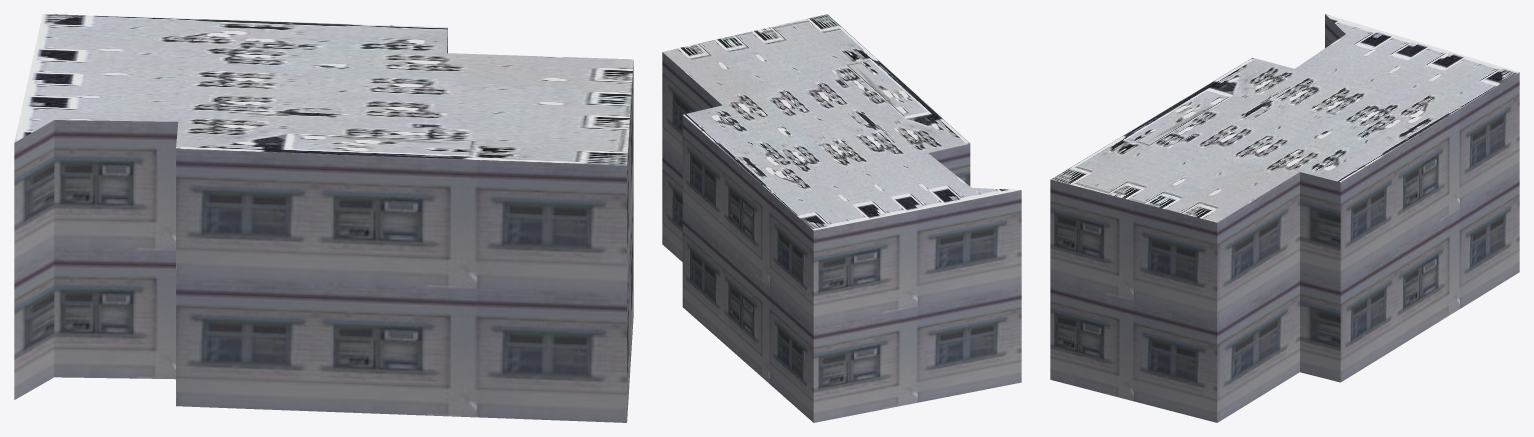
File: ResTex__4028.fbx
3 renders of one model, left to right at view 1: azimuth 30°, elevation 25°; view 2: azimuth 150°, elevation 25°; view 3: azimuth 270°, elevation 25°, orthographic. The views are drawn at different scales.
Visible parts, largest first — view 1: CityEngineMaterial_1_m, CityEngineMaterial_2_m; view 2: CityEngineMaterial_1_m, CityEngineMaterial_2_m; view 3: CityEngineMaterial_1_m, CityEngineMaterial_2_m.
Part boxes in pixels (x1,y1,x2,y2): CityEngineMaterial_1_m: (14,27,633,422); CityEngineMaterial_2_m: (14,14,633,165); CityEngineMaterial_1_m: (662,52,1021,422); CityEngineMaterial_2_m: (663,14,1021,230); CityEngineMaterial_1_m: (1050,14,1519,422); CityEngineMaterial_2_m: (1051,14,1519,222).
Bounding box in the file's own units: 13.42 × 6 × 12.74.
Materials: 2 (2 with a texture image).
